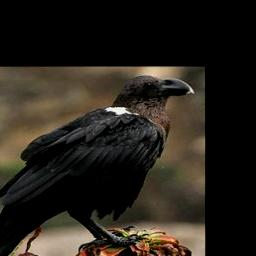Crow: (0, 74, 191, 256)
